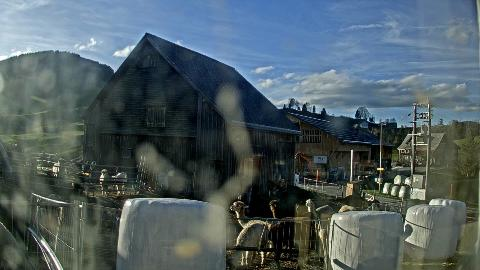car: (418, 160, 426, 166)
sheep: (230, 202, 280, 258), (268, 220, 326, 268), (226, 224, 268, 270), (0, 220, 28, 270), (269, 200, 311, 230), (305, 200, 333, 216), (237, 184, 253, 212), (25, 158, 38, 190), (296, 202, 316, 222), (53, 158, 67, 186), (112, 172, 128, 196), (267, 178, 285, 198), (72, 172, 86, 195), (344, 195, 366, 209), (106, 207, 122, 225), (100, 170, 110, 196), (366, 198, 380, 210), (320, 230, 329, 244), (338, 206, 356, 212), (324, 212, 336, 218)
